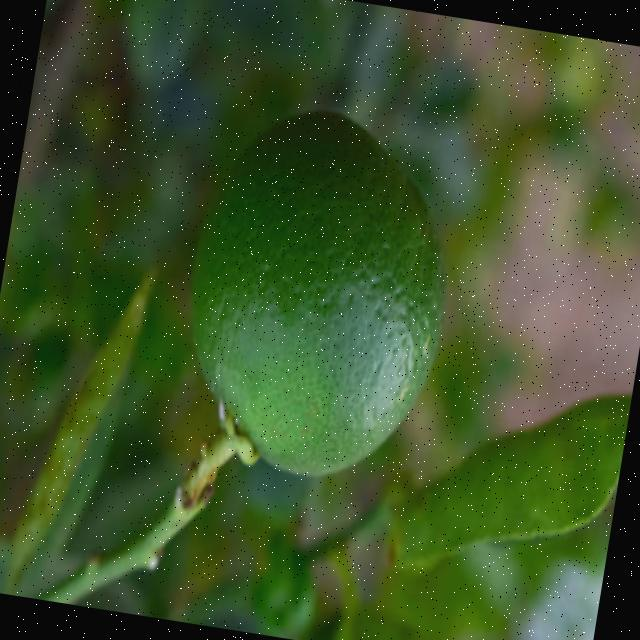Unripe: (163, 98, 470, 492)
